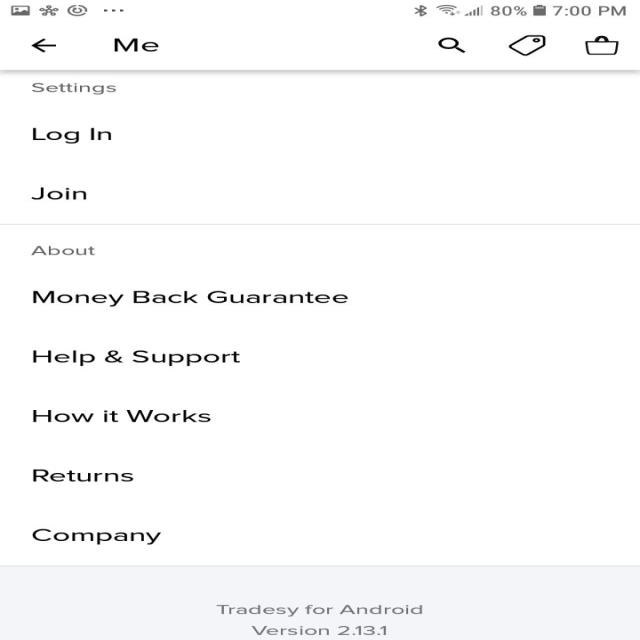Icon: (507, 35, 545, 56), (584, 35, 619, 55), (437, 37, 465, 53), (31, 38, 56, 52)
Text: (32, 290, 348, 307), (32, 350, 240, 366), (216, 604, 422, 617), (32, 528, 161, 545), (32, 410, 211, 422), (250, 625, 386, 635), (32, 127, 112, 144), (32, 469, 134, 481), (31, 83, 116, 95), (31, 187, 86, 200), (114, 39, 160, 52), (31, 246, 95, 255)
